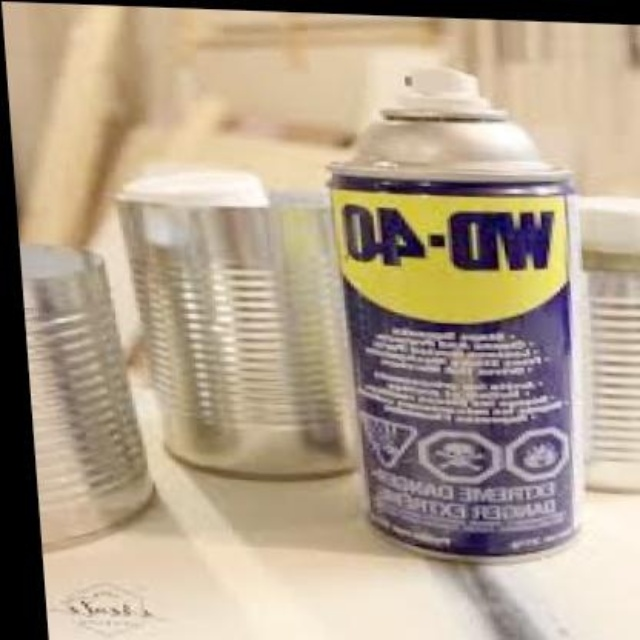trash: (331, 68, 577, 554), (580, 197, 638, 491)
